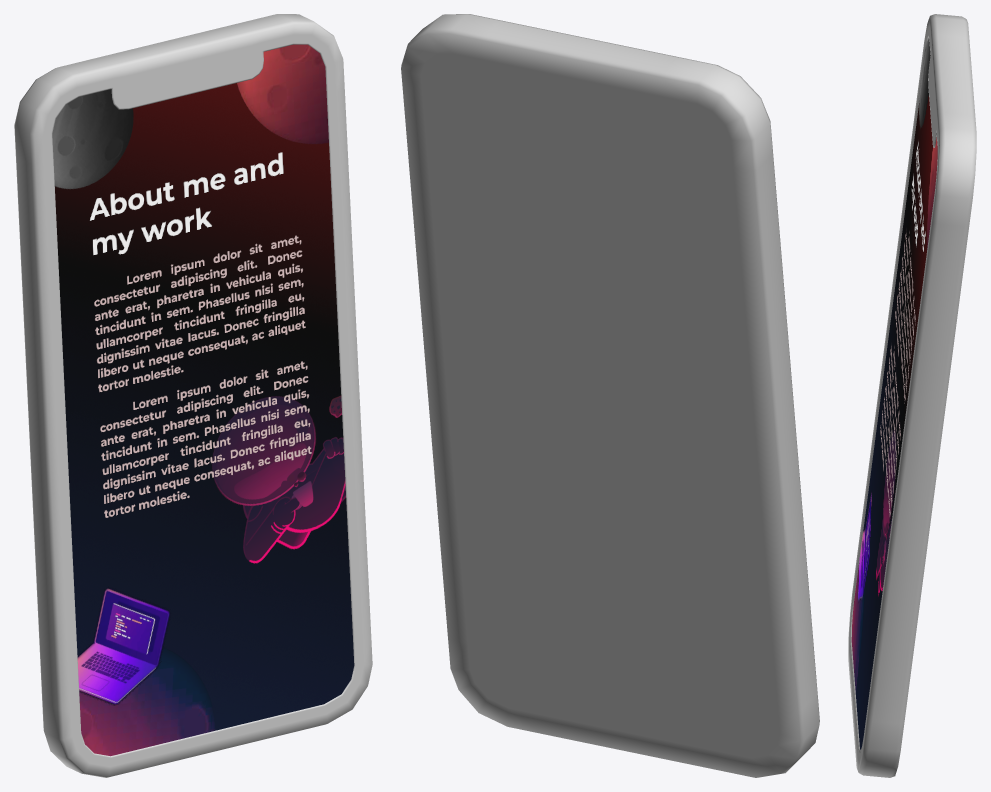
The model's file is phone.glb.
3 views of the same model, side by side, from view 1: azimuth 30°, elevation 25°; view 2: azimuth 150°, elevation 25°; view 3: azimuth 270°, elevation 25° (orthographic). The views are drawn at different scales.
Parts seen in each view (by area): view 1: Iphone Screen.001, Iphone; view 2: Iphone; view 3: Iphone, Iphone Screen.001.
Part boxes in pixels (left/top/right/bottom): Iphone Screen.001: left=52, top=44, right=354, bottom=756; Iphone: left=14, top=14, right=372, bottom=777; Iphone: left=401, top=14, right=819, bottom=777; Iphone: left=848, top=14, right=976, bottom=777; Iphone Screen.001: left=851, top=38, right=937, bottom=749.
Bounding box in the file's own units: 1.42 × 2.8 × 0.4987.
2 materials, 1 textured.
